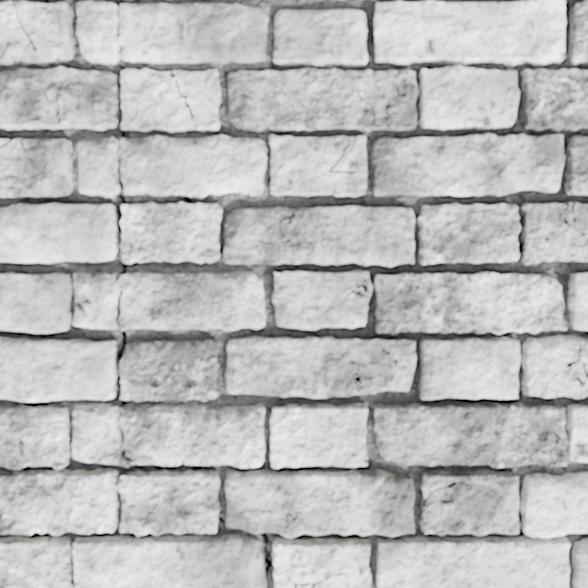brick: (0, 405, 265, 587), (228, 0, 564, 131), (225, 469, 587, 587), (0, 66, 220, 132), (373, 403, 587, 466), (0, 202, 221, 262), (371, 134, 587, 195), (373, 272, 565, 333), (226, 336, 415, 397), (223, 206, 414, 266), (418, 335, 587, 398), (418, 203, 587, 264), (0, 337, 116, 400), (420, 470, 518, 534), (271, 403, 366, 467), (120, 340, 218, 400), (272, 270, 371, 329), (269, 135, 366, 195), (0, 1, 73, 65), (0, 273, 72, 332), (520, 68, 587, 131), (0, 139, 71, 196), (568, 0, 587, 64), (568, 273, 587, 329), (0, 1, 11, 9), (0, 139, 6, 144)
broken_brick: (71, 402, 266, 468), (74, 134, 268, 200), (71, 270, 266, 331), (119, 2, 269, 65), (75, 0, 117, 64)
crack: (134, 70, 193, 119), (540, 201, 586, 247), (0, 0, 37, 52), (422, 479, 481, 507), (116, 422, 146, 468), (286, 570, 349, 587), (336, 281, 372, 309), (112, 288, 126, 359), (114, 0, 127, 70), (259, 531, 272, 587), (113, 154, 126, 204), (547, 423, 561, 466), (514, 432, 533, 462), (20, 138, 34, 164), (114, 257, 126, 281), (115, 128, 125, 148), (195, 464, 214, 471), (0, 138, 13, 148), (551, 565, 556, 587), (217, 515, 226, 525), (122, 399, 129, 407), (118, 210, 123, 220), (362, 457, 367, 466), (217, 489, 220, 503), (117, 369, 121, 377), (120, 112, 123, 120), (118, 248, 121, 252)
